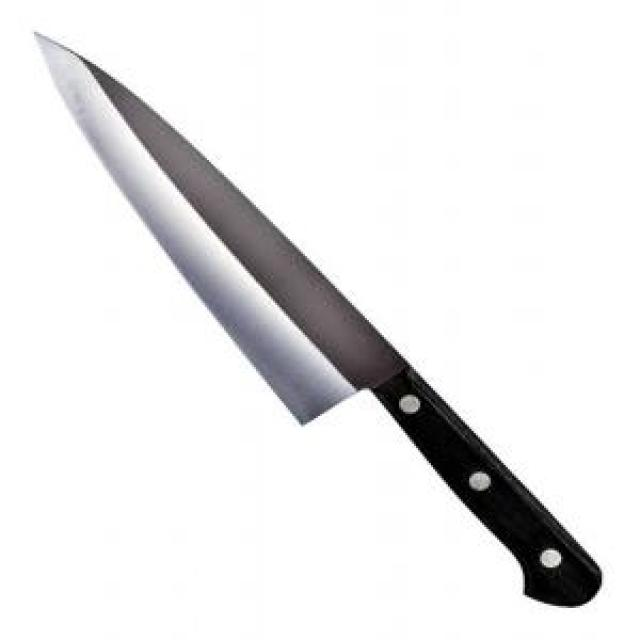knife: (30, 32, 607, 611)
